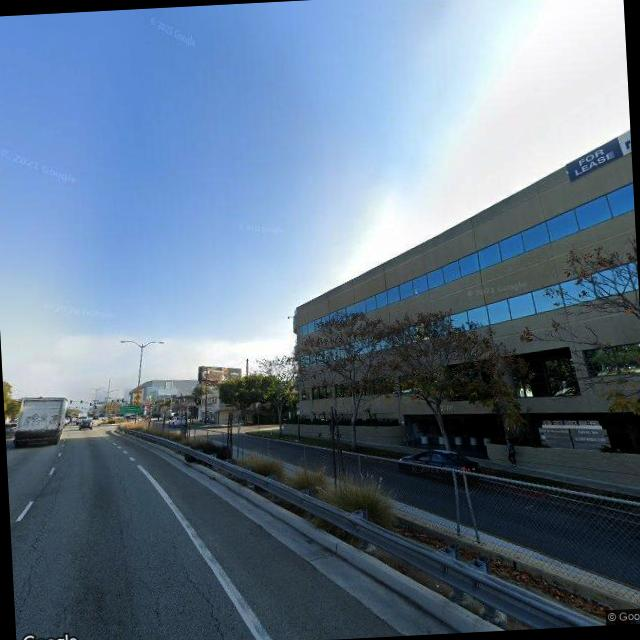pothole: (175, 555, 231, 640)
